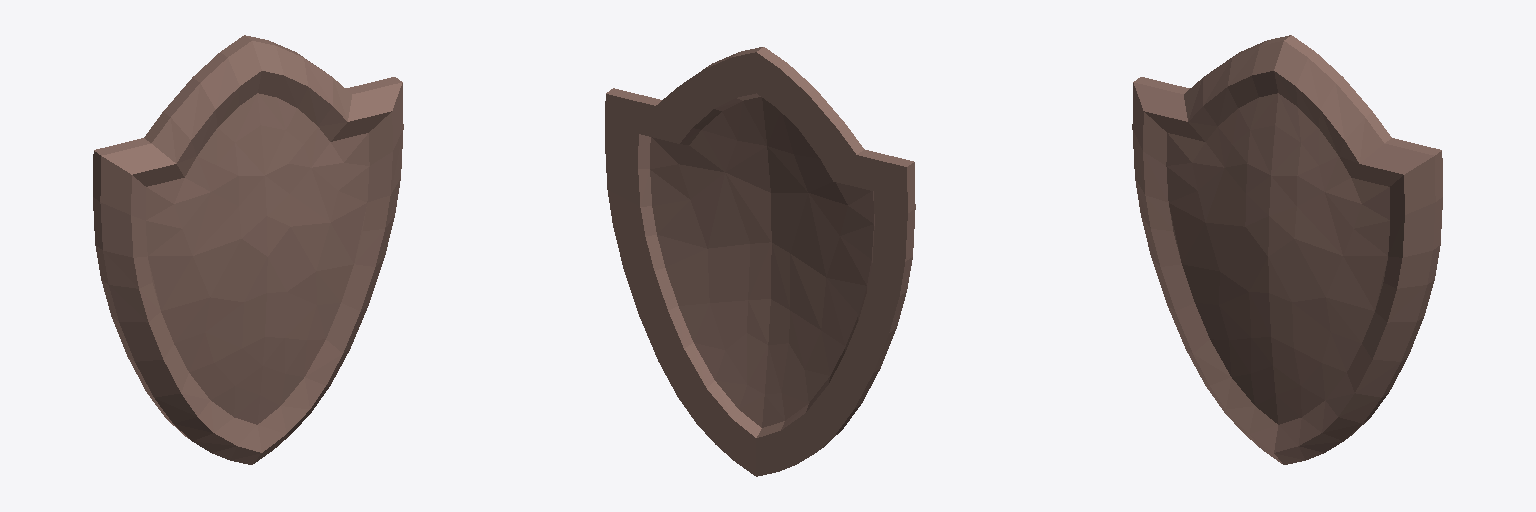
Rendered from omniknight_guardian_angel_shield.obj.
3 views of the same model, side by side, from view 1: azimuth 30°, elevation 25°; view 2: azimuth 150°, elevation 25°; view 3: azimuth 330°, elevation 25° (orthographic).
Visible parts, largest first — view 1: mesh; view 2: mesh; view 3: mesh.
Part boxes in pixels (x1,y1,x2,y2): mesh: (93, 35, 403, 464); mesh: (605, 47, 915, 476); mesh: (1132, 35, 1442, 464).
Size of the model in its own units: 20.49 by 27.43 by 2.74.